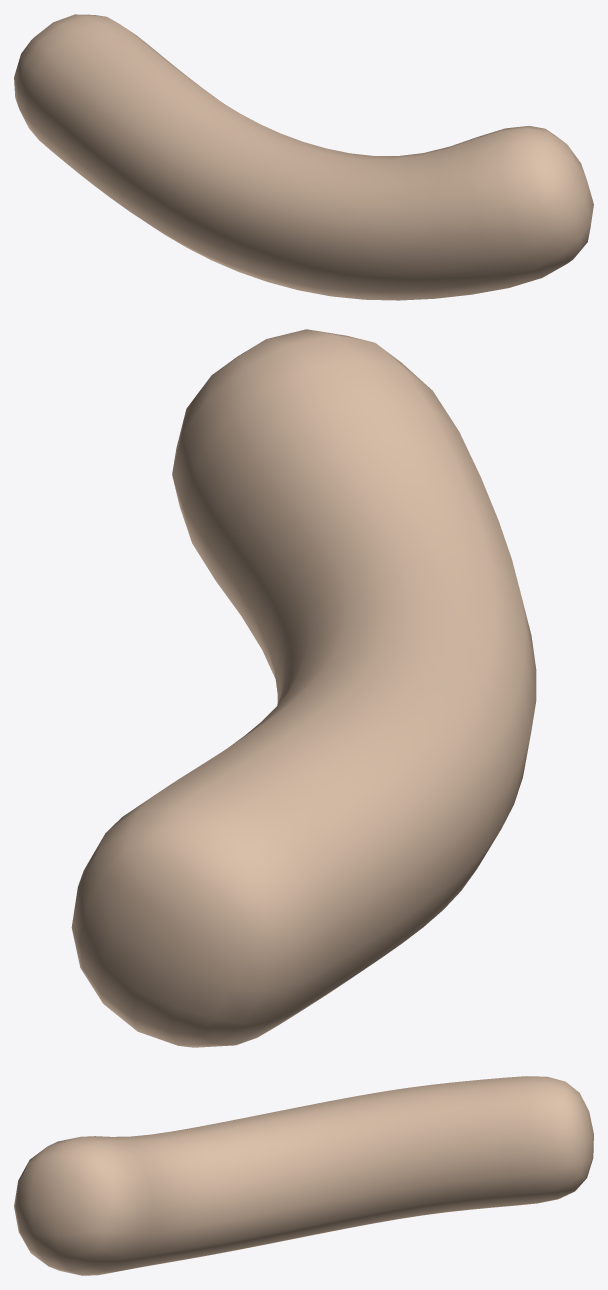
3 views of the same model, one above another, from view 1: azimuth 30°, elevation 25°; view 2: azimuth 150°, elevation 25°; view 3: azimuth 270°, elevation 25° (orthographic). The views are drawn at different scales.
Parts seen in each view (by area): view 1: 右侧结节间腱鞘; view 2: 右侧结节间腱鞘; view 3: 右侧结节间腱鞘.
Boxes of the visible parts, bbox=[...] form: 右侧结节间腱鞘: bbox=[14, 14, 593, 300]; 右侧结节间腱鞘: bbox=[71, 329, 536, 1047]; 右侧结节间腱鞘: bbox=[14, 1076, 593, 1275].
Bounding box in the file's own units: 0.0271 × 0.0146 × 0.0476.
